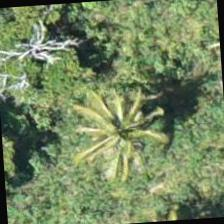Kelapa_Sawit: (78, 70, 174, 166)
